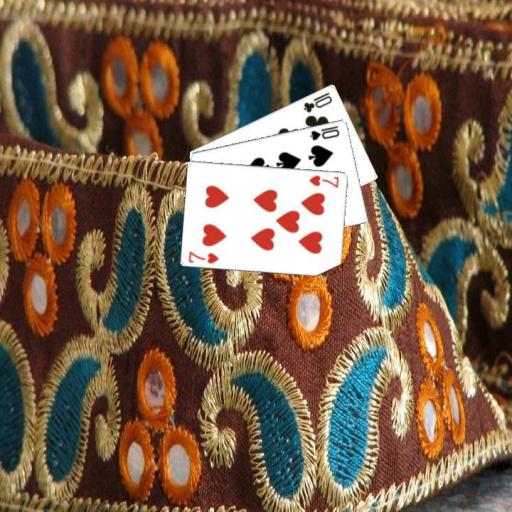10C: (300, 89, 334, 114)
10S: (307, 123, 341, 142)
7H: (306, 172, 341, 189), (186, 248, 221, 265)
